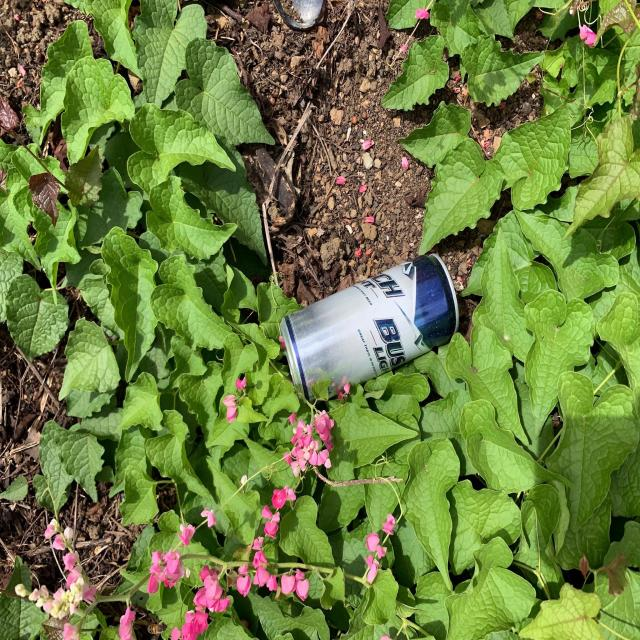litter: (280, 253, 459, 408)
